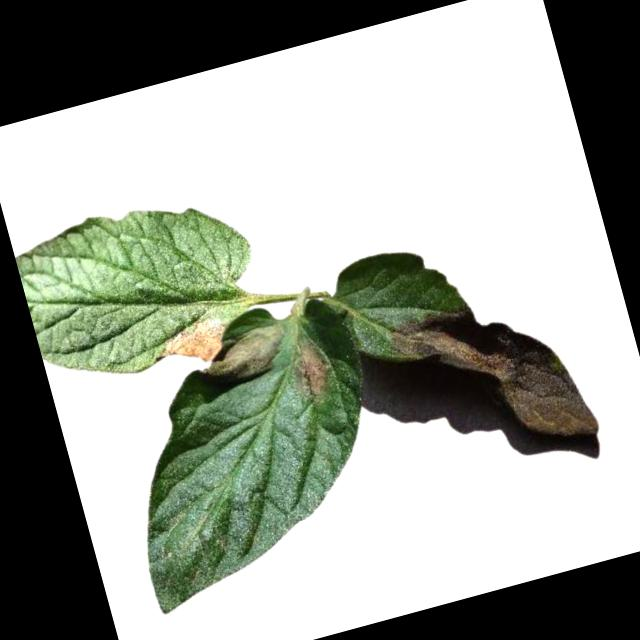Late_blight: (384, 278, 601, 478), (193, 321, 296, 395), (156, 311, 240, 374), (282, 330, 339, 402)
